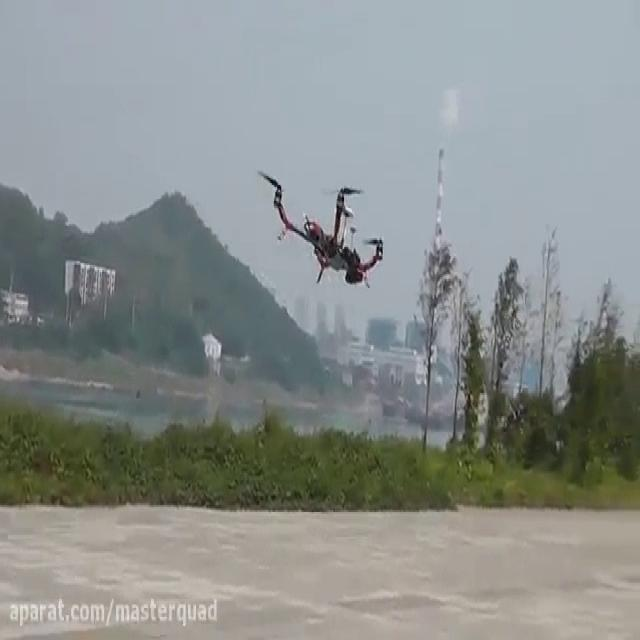drone: (257, 162, 391, 295)
